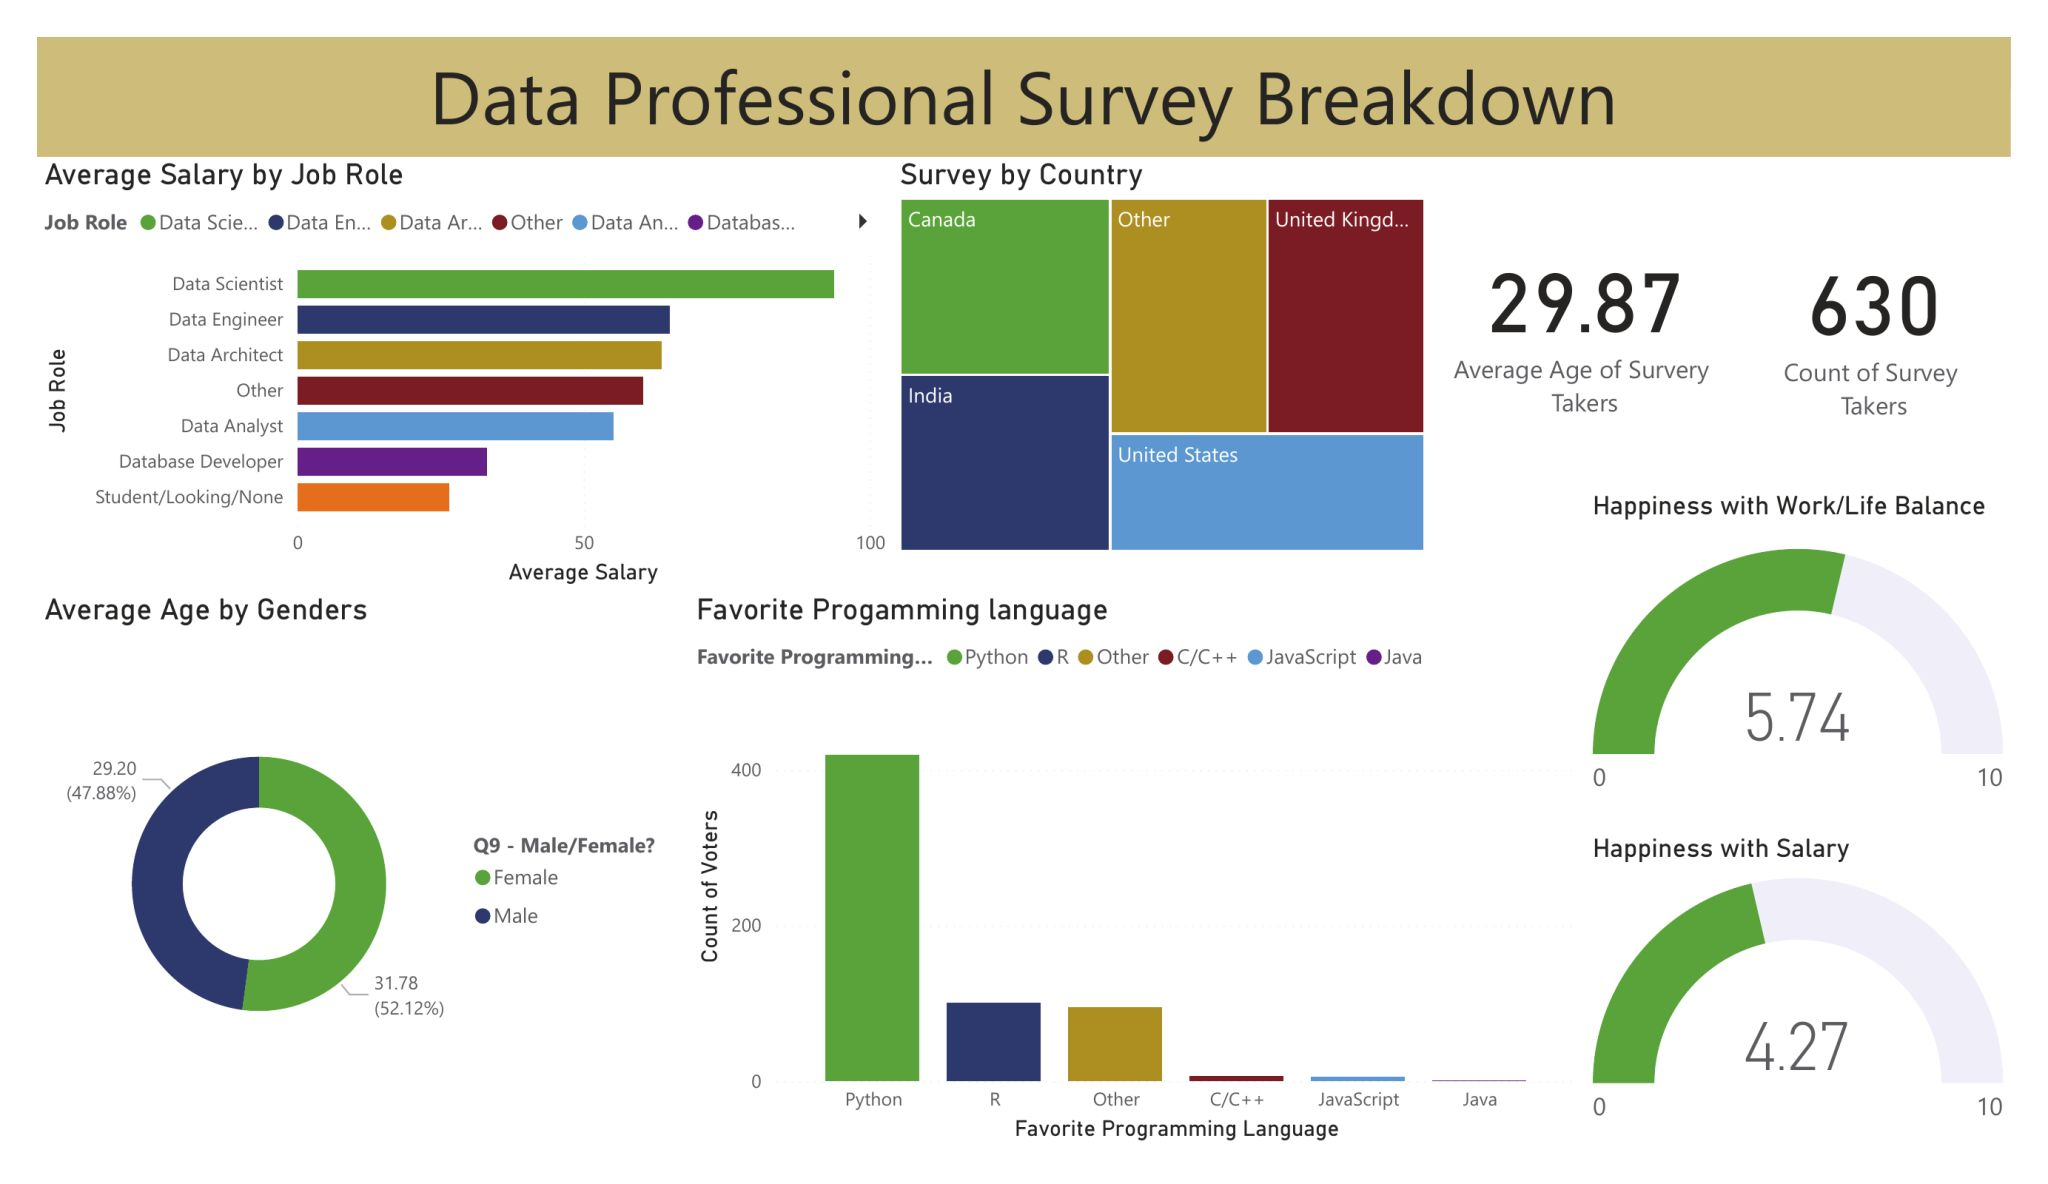

The dashboard page shown, as its layout file describes it:
{"tool":"powerbi","page":{"name":"Page 1","canvas":[1280,720],"ordinal":0},"visuals":[{"type":"card","fields":{"Values":["Count(Data Professional Survey.Unique ID)"]},"box":[1103,79.7,177.3,196.8],"z":0},{"type":"card","fields":{"Values":["Avg(Data Professional Survey.Q10 - Current Age)"]},"box":[904.5,78.1,198.5,196.8],"z":1000},{"type":"barChart","title":"Average Salary by Job Role","fields":{"Category":["Data Professional Survey.Q1 - Which Title Best Fits your Current Role?.1"],"Y":["Avg(Data Professional Survey.Average Salary)"],"Series":["Data Professional Survey.Q1 - Which Title Best Fits your Current Role?.1"]},"box":[0,78.1,554.8,281.4],"z":2000},{"type":"columnChart","title":"Favorite Progamming language","fields":{"Category":["Data Professional Survey.Q5 - Favorite Programming Language.1","Data Professional Survey.Q1 - Which Title Best Fits your Current Role?.1"],"Y":["CountNonNull(Data Professional Survey.Unique ID)"],"Series":["Data Professional Survey.Q5 - Favorite Programming Language.1"]},"box":[423,359.5,580.8,361.2],"z":3000},{"type":"treemap","title":"Survey by Country","fields":{"Group":["Data Professional Survey.Q11 - Which Country do you live in?.1"],"Values":["Count(Data Professional Survey.Q11 - Which Country do you live in?.1)"]},"box":[554.8,78.1,349.8,260.3],"z":4000},{"type":"textbox","box":[0,0,1280.3,78.1],"z":5000},{"type":"gauge","title":"Happiness with Work/Life Balance","fields":{"Y":["Avg(Data Professional Survey.Q6 - How Happy are you in your Current Position with the following? (Work/Life Balance))"],"MinValue":["Min(Data Professional Survey.Q6 - How Happy are you in your Current Position with the following? (Work/Life Balance))"],"MaxValue":["Max(Data Professional Survey.Q6 - How Happy are you in your Current Position with the following? (Work/Life Balance))"]},"box":[1003.8,294.5,276.6,221.3],"z":6000},{"type":"gauge","title":"Happiness with Salary","fields":{"Y":["Avg(Data Professional Survey.Q6 - How Happy are you in your Current Position with the following? (Salary))"],"MinValue":["Min(Data Professional Survey.Q6 - How Happy are you in your Current Position with the following? (Salary))"],"MaxValue":["Max(Data Professional Survey.Q6 - How Happy are you in your Current Position with the following? (Salary))"]},"box":[1003.8,515.7,276.6,205],"z":7000},{"type":"donutChart","title":"Average Age by Genders","fields":{"Category":["Data Professional Survey.Q9 - Male/Female?"],"Y":["Avg(Data Professional Survey.Q10 - Current Age)"]},"box":[0,359.5,423,356.3],"z":8000}]}

Visuals, with their boxes in screenshot pixels (x1, y1, x2, y2), scaled from the page's 1280x720 canvas onto the 2048x1184 screenshot:
card - Count(Data Professional Survey.Unique ID): crop(1765, 131, 2047, 455)
card - Avg(Data Professional Survey.Q10 - Current Age): crop(1447, 128, 1765, 452)
"Average Salary by Job Role" barChart: crop(0, 128, 888, 591)
"Favorite Progamming language" columnChart: crop(677, 591, 1606, 1183)
"Survey by Country" treemap: crop(888, 128, 1447, 556)
textbox: crop(0, 0, 2047, 128)
"Happiness with Work/Life Balance" gauge: crop(1606, 484, 2047, 848)
"Happiness with Salary" gauge: crop(1606, 848, 2047, 1183)
"Average Age by Genders" donutChart: crop(0, 591, 677, 1177)
